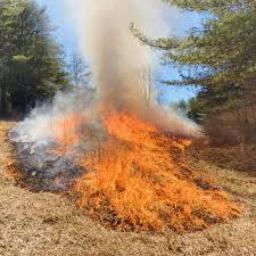Low smoke: (76, 0, 172, 106)
Medium fire: (39, 106, 229, 236)
